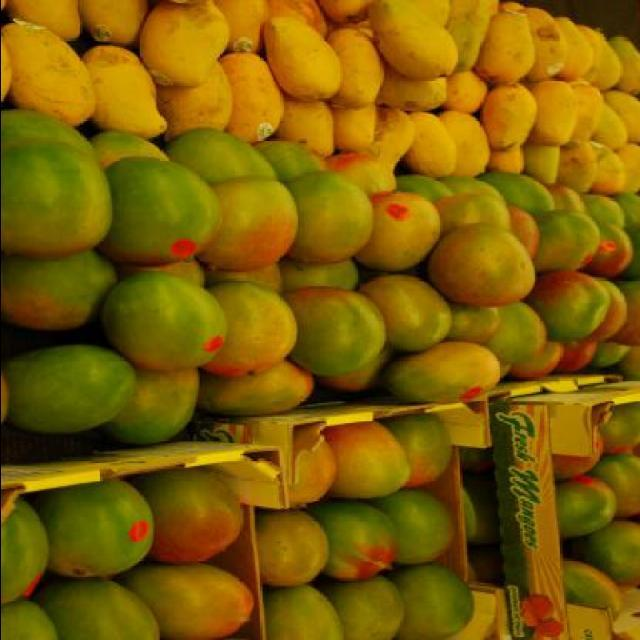Mango: (2, 0, 640, 446), (258, 415, 476, 639), (1, 469, 253, 640), (548, 400, 640, 620), (104, 270, 228, 372), (438, 220, 536, 302), (460, 472, 496, 548)
